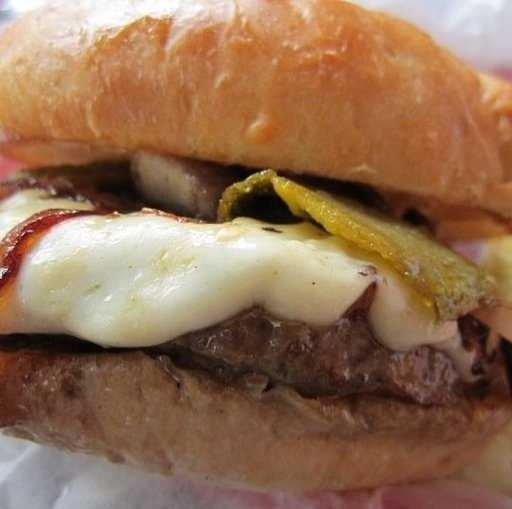hamburger: (1, 3, 502, 470)
